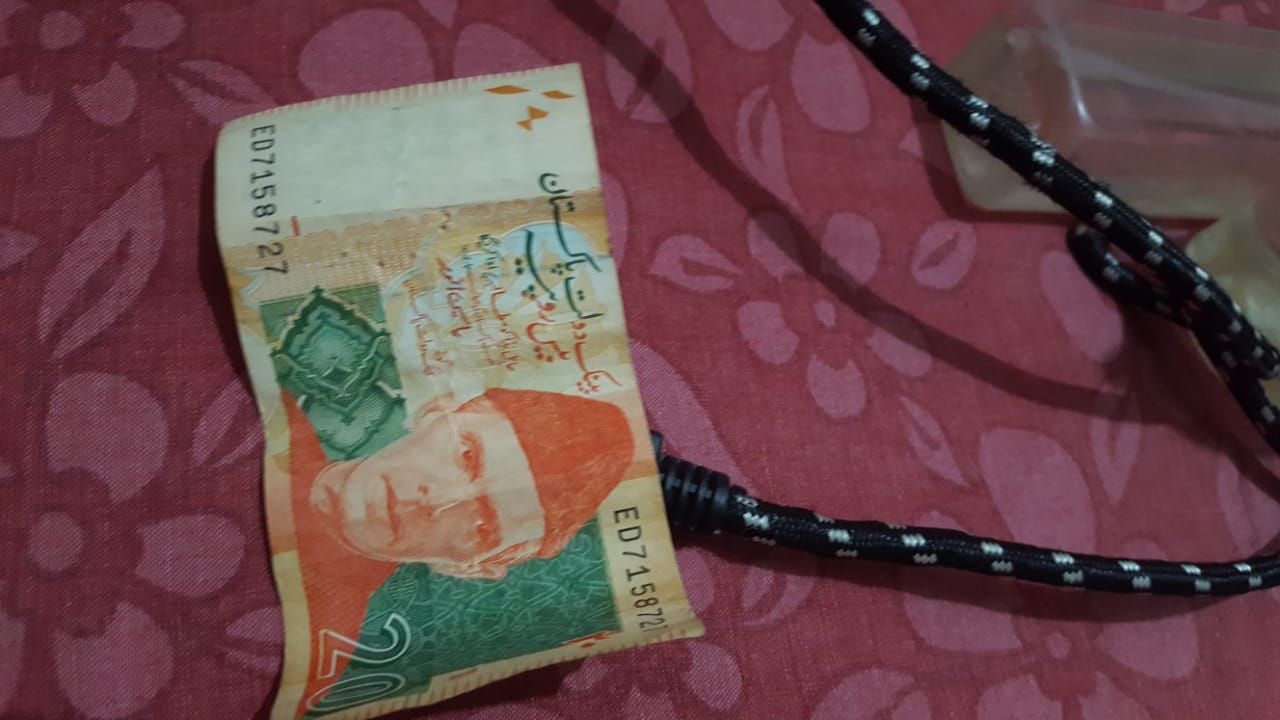20 rupee: (179, 79, 700, 688)
